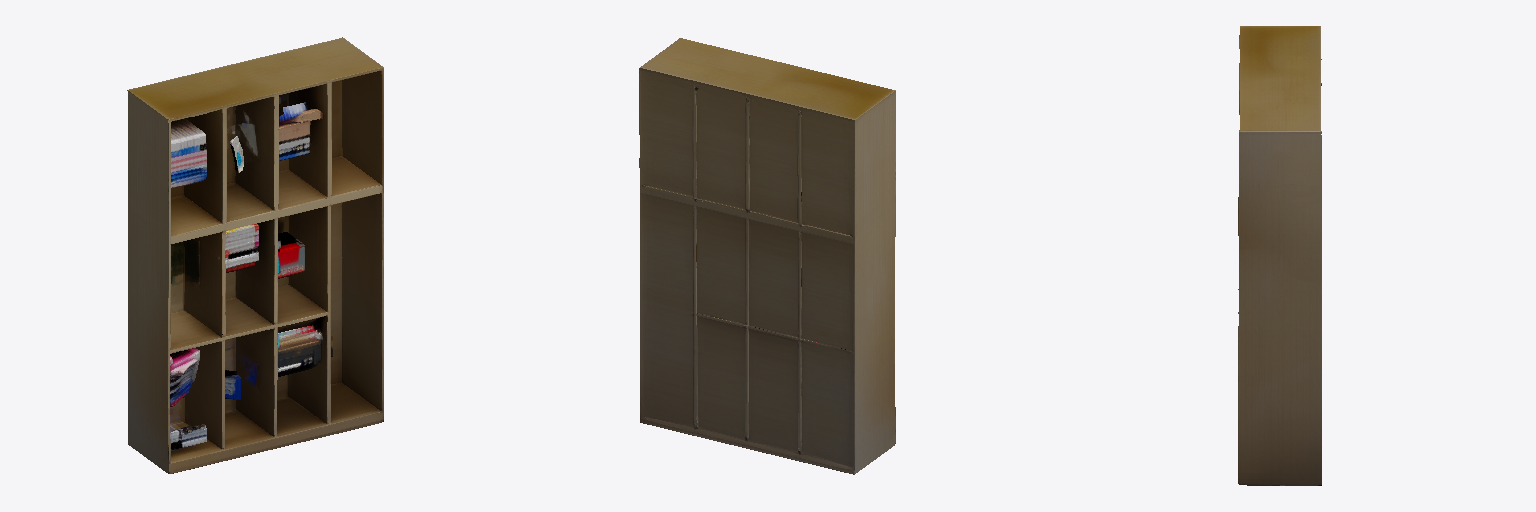
The picture shows the model from 3 angles: view 1: azimuth 30°, elevation 25°; view 2: azimuth 150°, elevation 25°; view 3: azimuth 270°, elevation 25°; orthographic projection.
Visible parts, largest first — view 1: geometry_0; view 2: geometry_0; view 3: geometry_0.
Part boxes in pixels (x1,y1,x2,y2): geometry_0: (127, 37, 383, 473); geometry_0: (639, 38, 895, 474); geometry_0: (1238, 26, 1321, 485).
Bounding box in the file's own units: 0.6359 × 1 × 0.2152.
Materials: 1 (1 with a texture image).